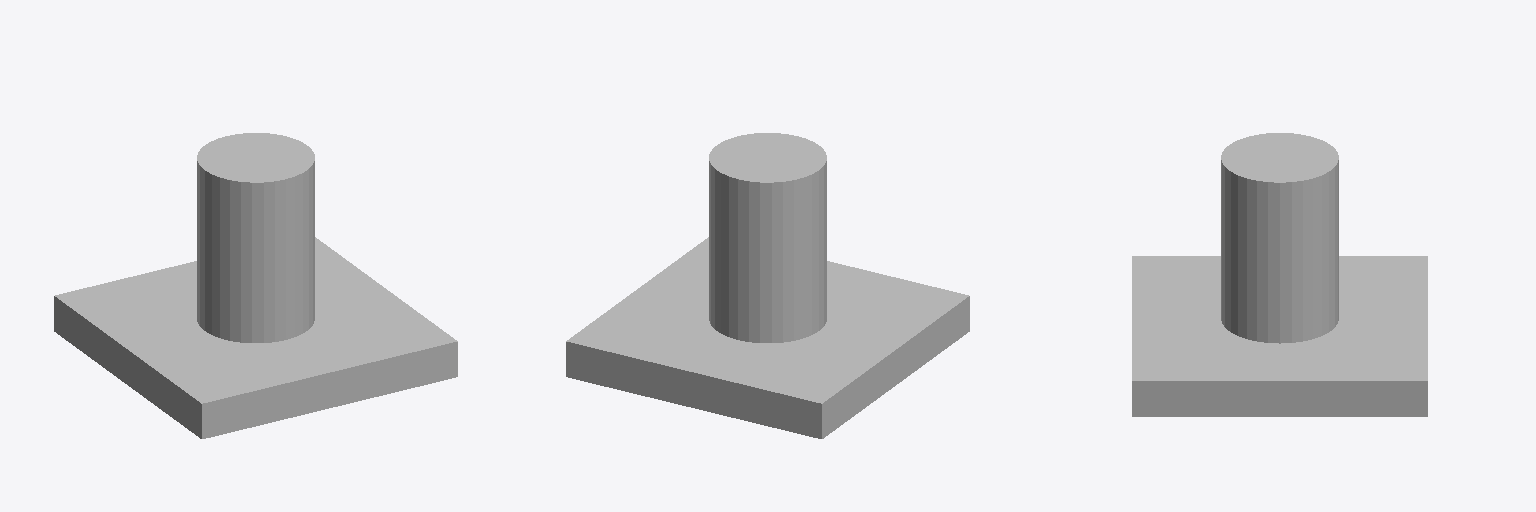
Rendered from machine_gun_cube.obj.
The picture shows the model from 3 angles: view 1: azimuth 30°, elevation 25°; view 2: azimuth 150°, elevation 25°; view 3: azimuth 270°, elevation 25°; orthographic projection.
Parts seen in each view (by area): view 1: Cube_Cube.002; view 2: Cube_Cube.002; view 3: Cube_Cube.002.
Part boxes in pixels (left/top/right/bottom): Cube_Cube.002: left=54, top=133, right=457, bottom=438; Cube_Cube.002: left=566, top=133, right=969, bottom=438; Cube_Cube.002: left=1132, top=133, right=1427, bottom=416.
Bounding box in the file's own units: 1.5 × 1.1 × 1.5.